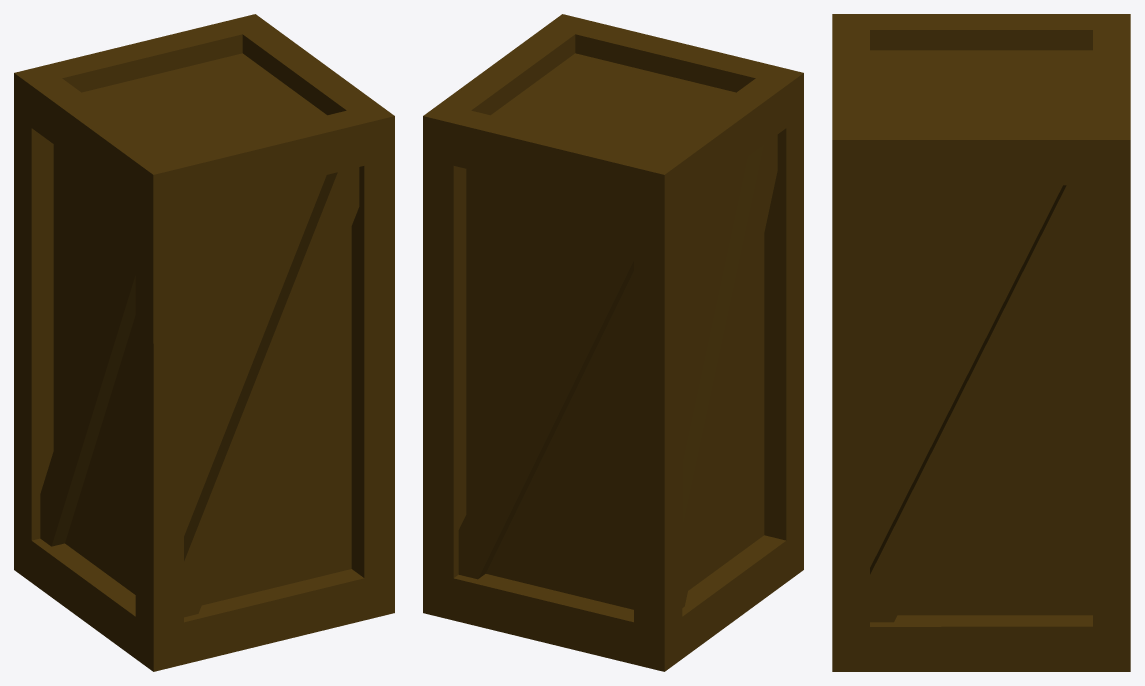
File: BigBox.fbx
3 views of the same model, side by side, from view 1: azimuth 30°, elevation 25°; view 2: azimuth 150°, elevation 25°; view 3: azimuth 270°, elevation 25° (orthographic). The views are drawn at different scales.
Parts seen in each view (by area): view 1: Cube.016; view 2: Cube.016; view 3: Cube.016.
Boxes of the visible parts, x1,y1,x2,y2 form: Cube.016: (14,14,394,671); Cube.016: (423,14,803,671); Cube.016: (832,14,1130,671).
Bounding box in the file's own units: 69 × 136 × 69.
